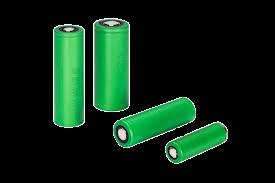Battery: (112, 97, 197, 149)
